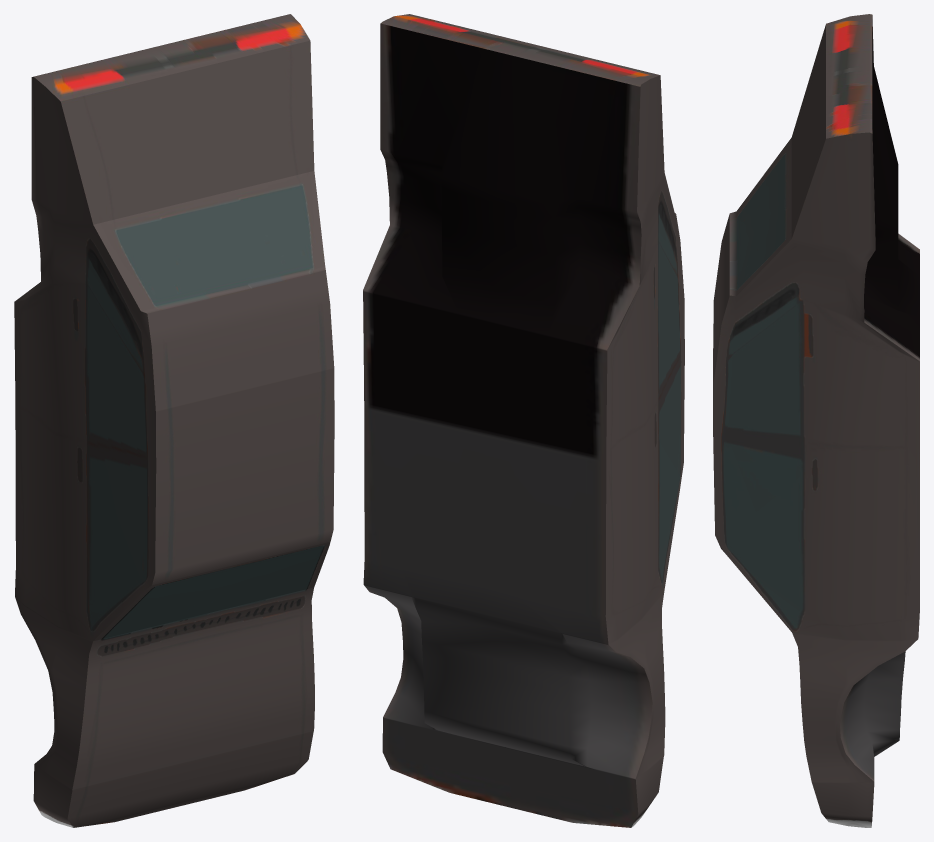
Rendered from kit-14.glb.
3 views of the same model, side by side, from view 1: azimuth 30°, elevation 25°; view 2: azimuth 150°, elevation 25°; view 3: azimuth 270°, elevation 25° (orthographic). The views are drawn at different scales.
Visible parts, largest first — view 1: Object_26; view 2: Object_26; view 3: Object_26.
Part boxes in pixels (left/top/right/bottom): Object_26: left=14, top=14, right=334, bottom=827; Object_26: left=363, top=14, right=684, bottom=827; Object_26: left=713, top=14, right=919, bottom=827.
Bounding box in the file's own units: 2.07 × 5.75 × 1.52.
1 material, 1 textured.
